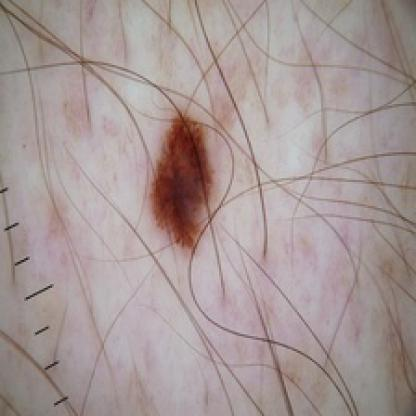malignant: (138, 106, 242, 262)
